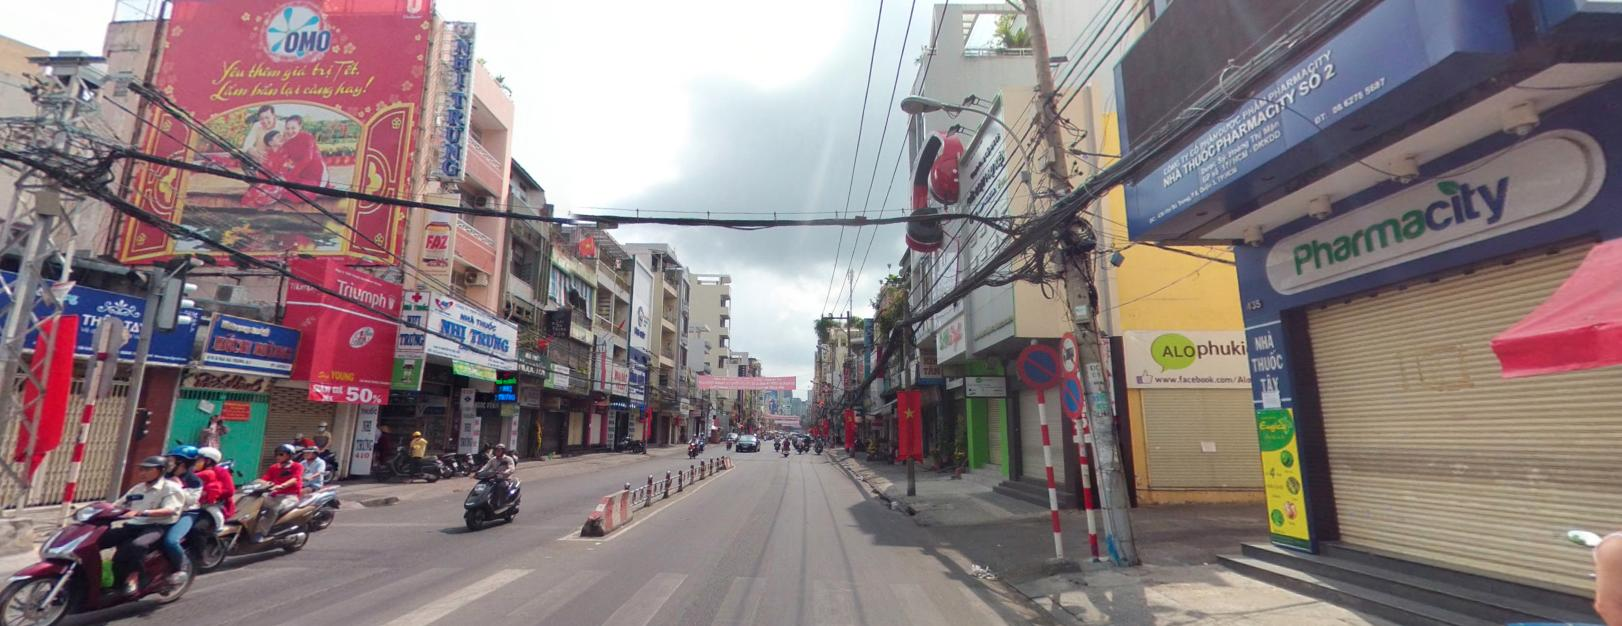Cam con lai: (1059, 330, 1077, 369)
Cam dung va do: (1017, 342, 1060, 387), (1060, 371, 1082, 417)
